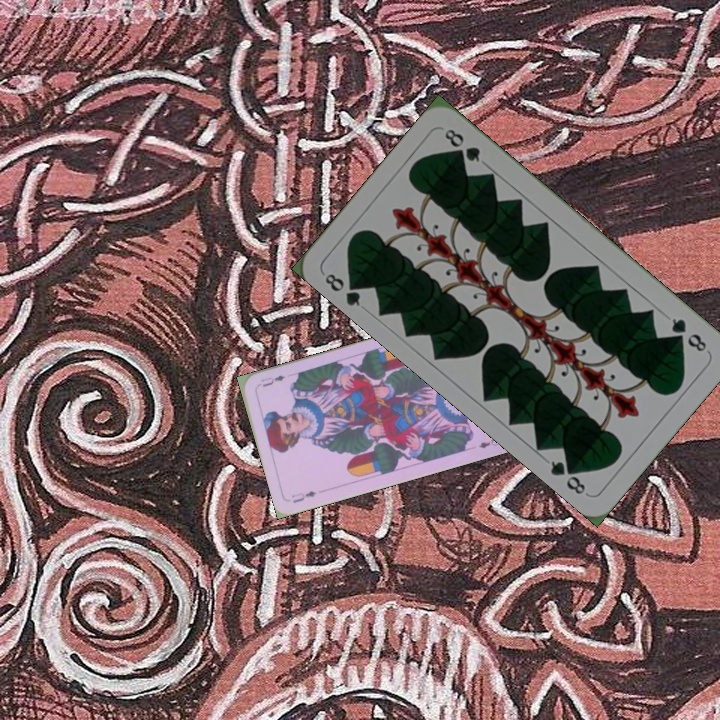EU: (287, 487, 319, 506)
G8: (320, 269, 366, 310), (667, 314, 710, 355)
